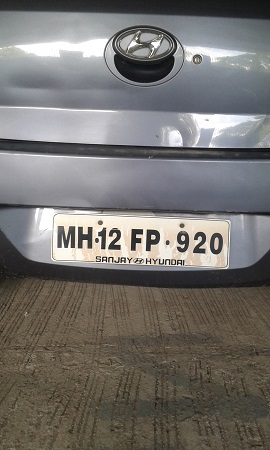licenseplate: (50, 209, 233, 270)
